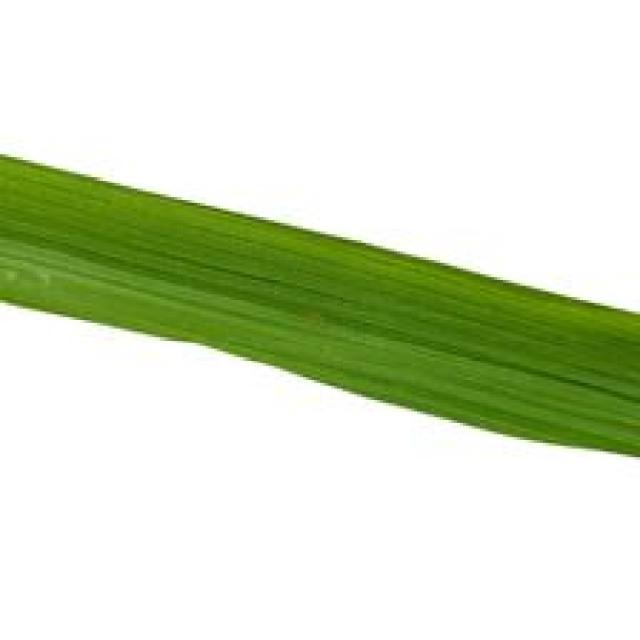Rice___Healthy_Rice_Plant: (0, 151, 637, 462)
